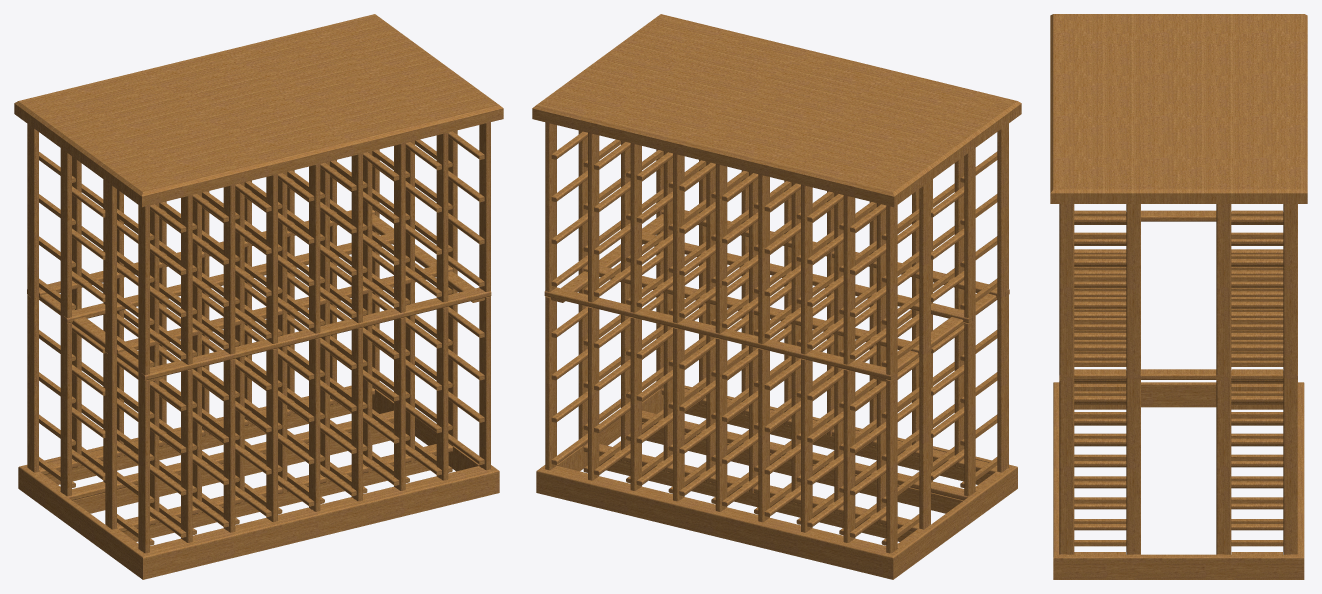
The model's file is VCKC0020.glb.
3 renders of one model, left to right at view 1: azimuth 30°, elevation 25°; view 2: azimuth 150°, elevation 25°; view 3: azimuth 270°, elevation 25°, orthographic.
Parts seen in each view (by area): view 1: wood.002, wood.003; view 2: wood.002, wood.003; view 3: wood.003, wood.002.
Boxes of the visible parts, x1,y1,x2,y2 form: wood.002: (27, 122, 491, 553); wood.003: (14, 14, 503, 579); wood.002: (544, 122, 1009, 553); wood.003: (532, 14, 1021, 579); wood.003: (1050, 14, 1307, 579); wood.002: (1059, 204, 1297, 554).
Bounding box in the file's own units: 0.85 × 0.87 × 0.519.
Materials: 1 (1 with a texture image).
